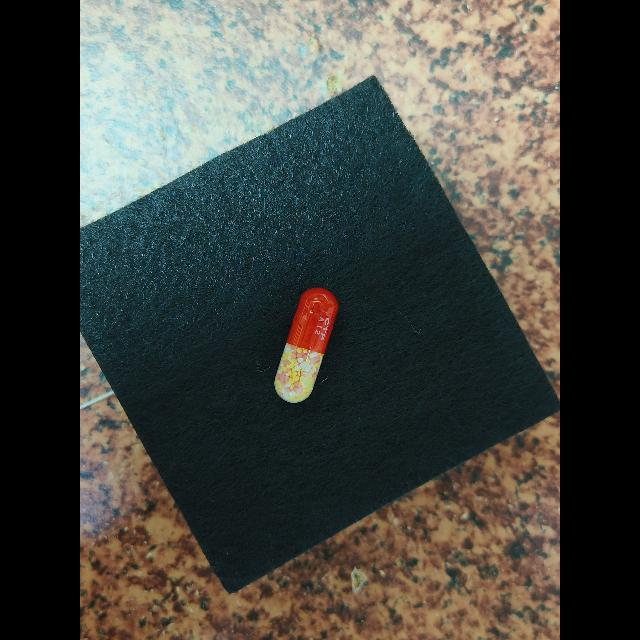Intact Capsule: (274, 287, 338, 403)
